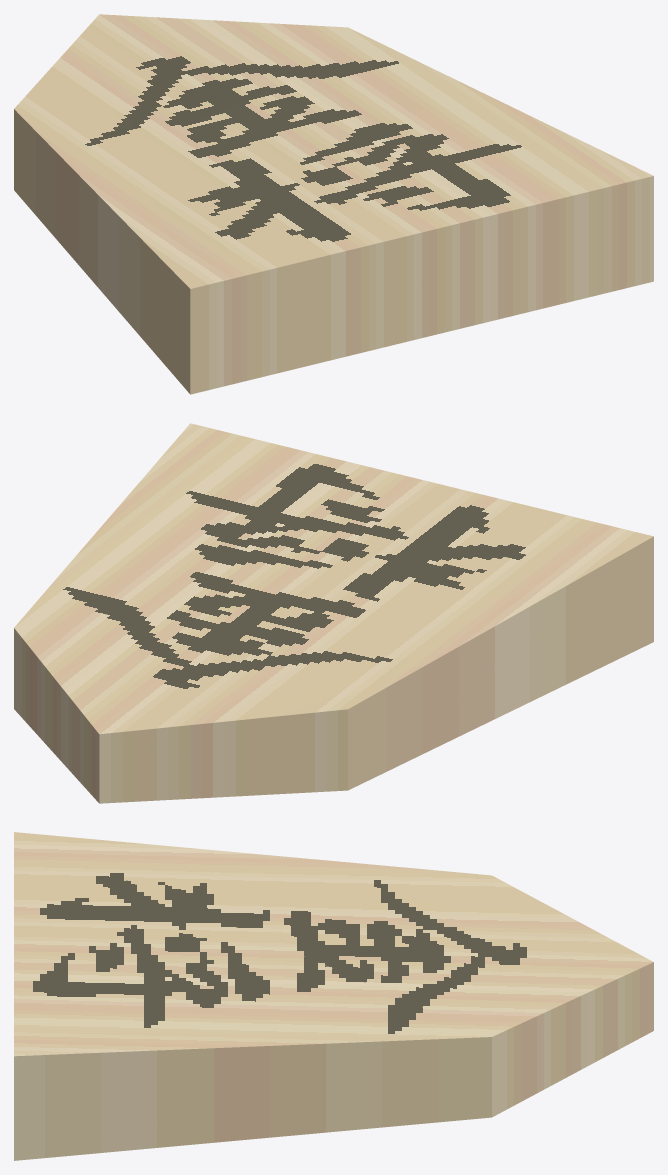
The model's file is 01b9_Kinsho.glb.
The picture shows the model from 3 angles, top to bottom: view 1: azimuth 30°, elevation 25°; view 2: azimuth 150°, elevation 25°; view 3: azimuth 270°, elevation 25°; orthographic projection.
Visible parts, largest first — view 1: part_0; view 2: part_0; view 3: part_0.
Part boxes in pixels (left/top/right/bottom): part_0: left=14, top=14, right=653, bottom=394; part_0: left=14, top=423, right=653, bottom=803; part_0: left=14, top=832, right=653, bottom=1160.
Size of the model in its own units: 0.0253 by 0.0055 by 0.0305.
Materials: 1 (1 with a texture image).
